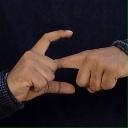hand: (6, 28, 75, 102), (53, 46, 127, 93)
